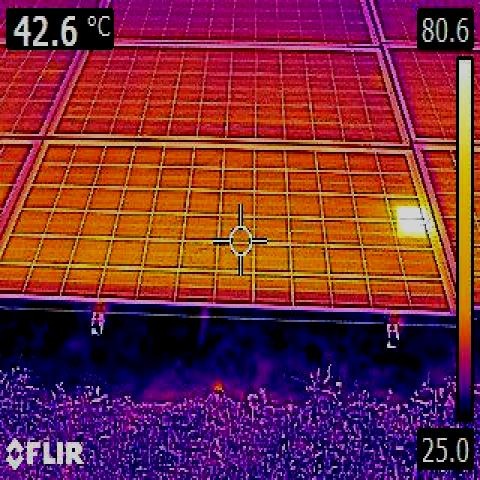fault: (397, 206, 425, 238)
